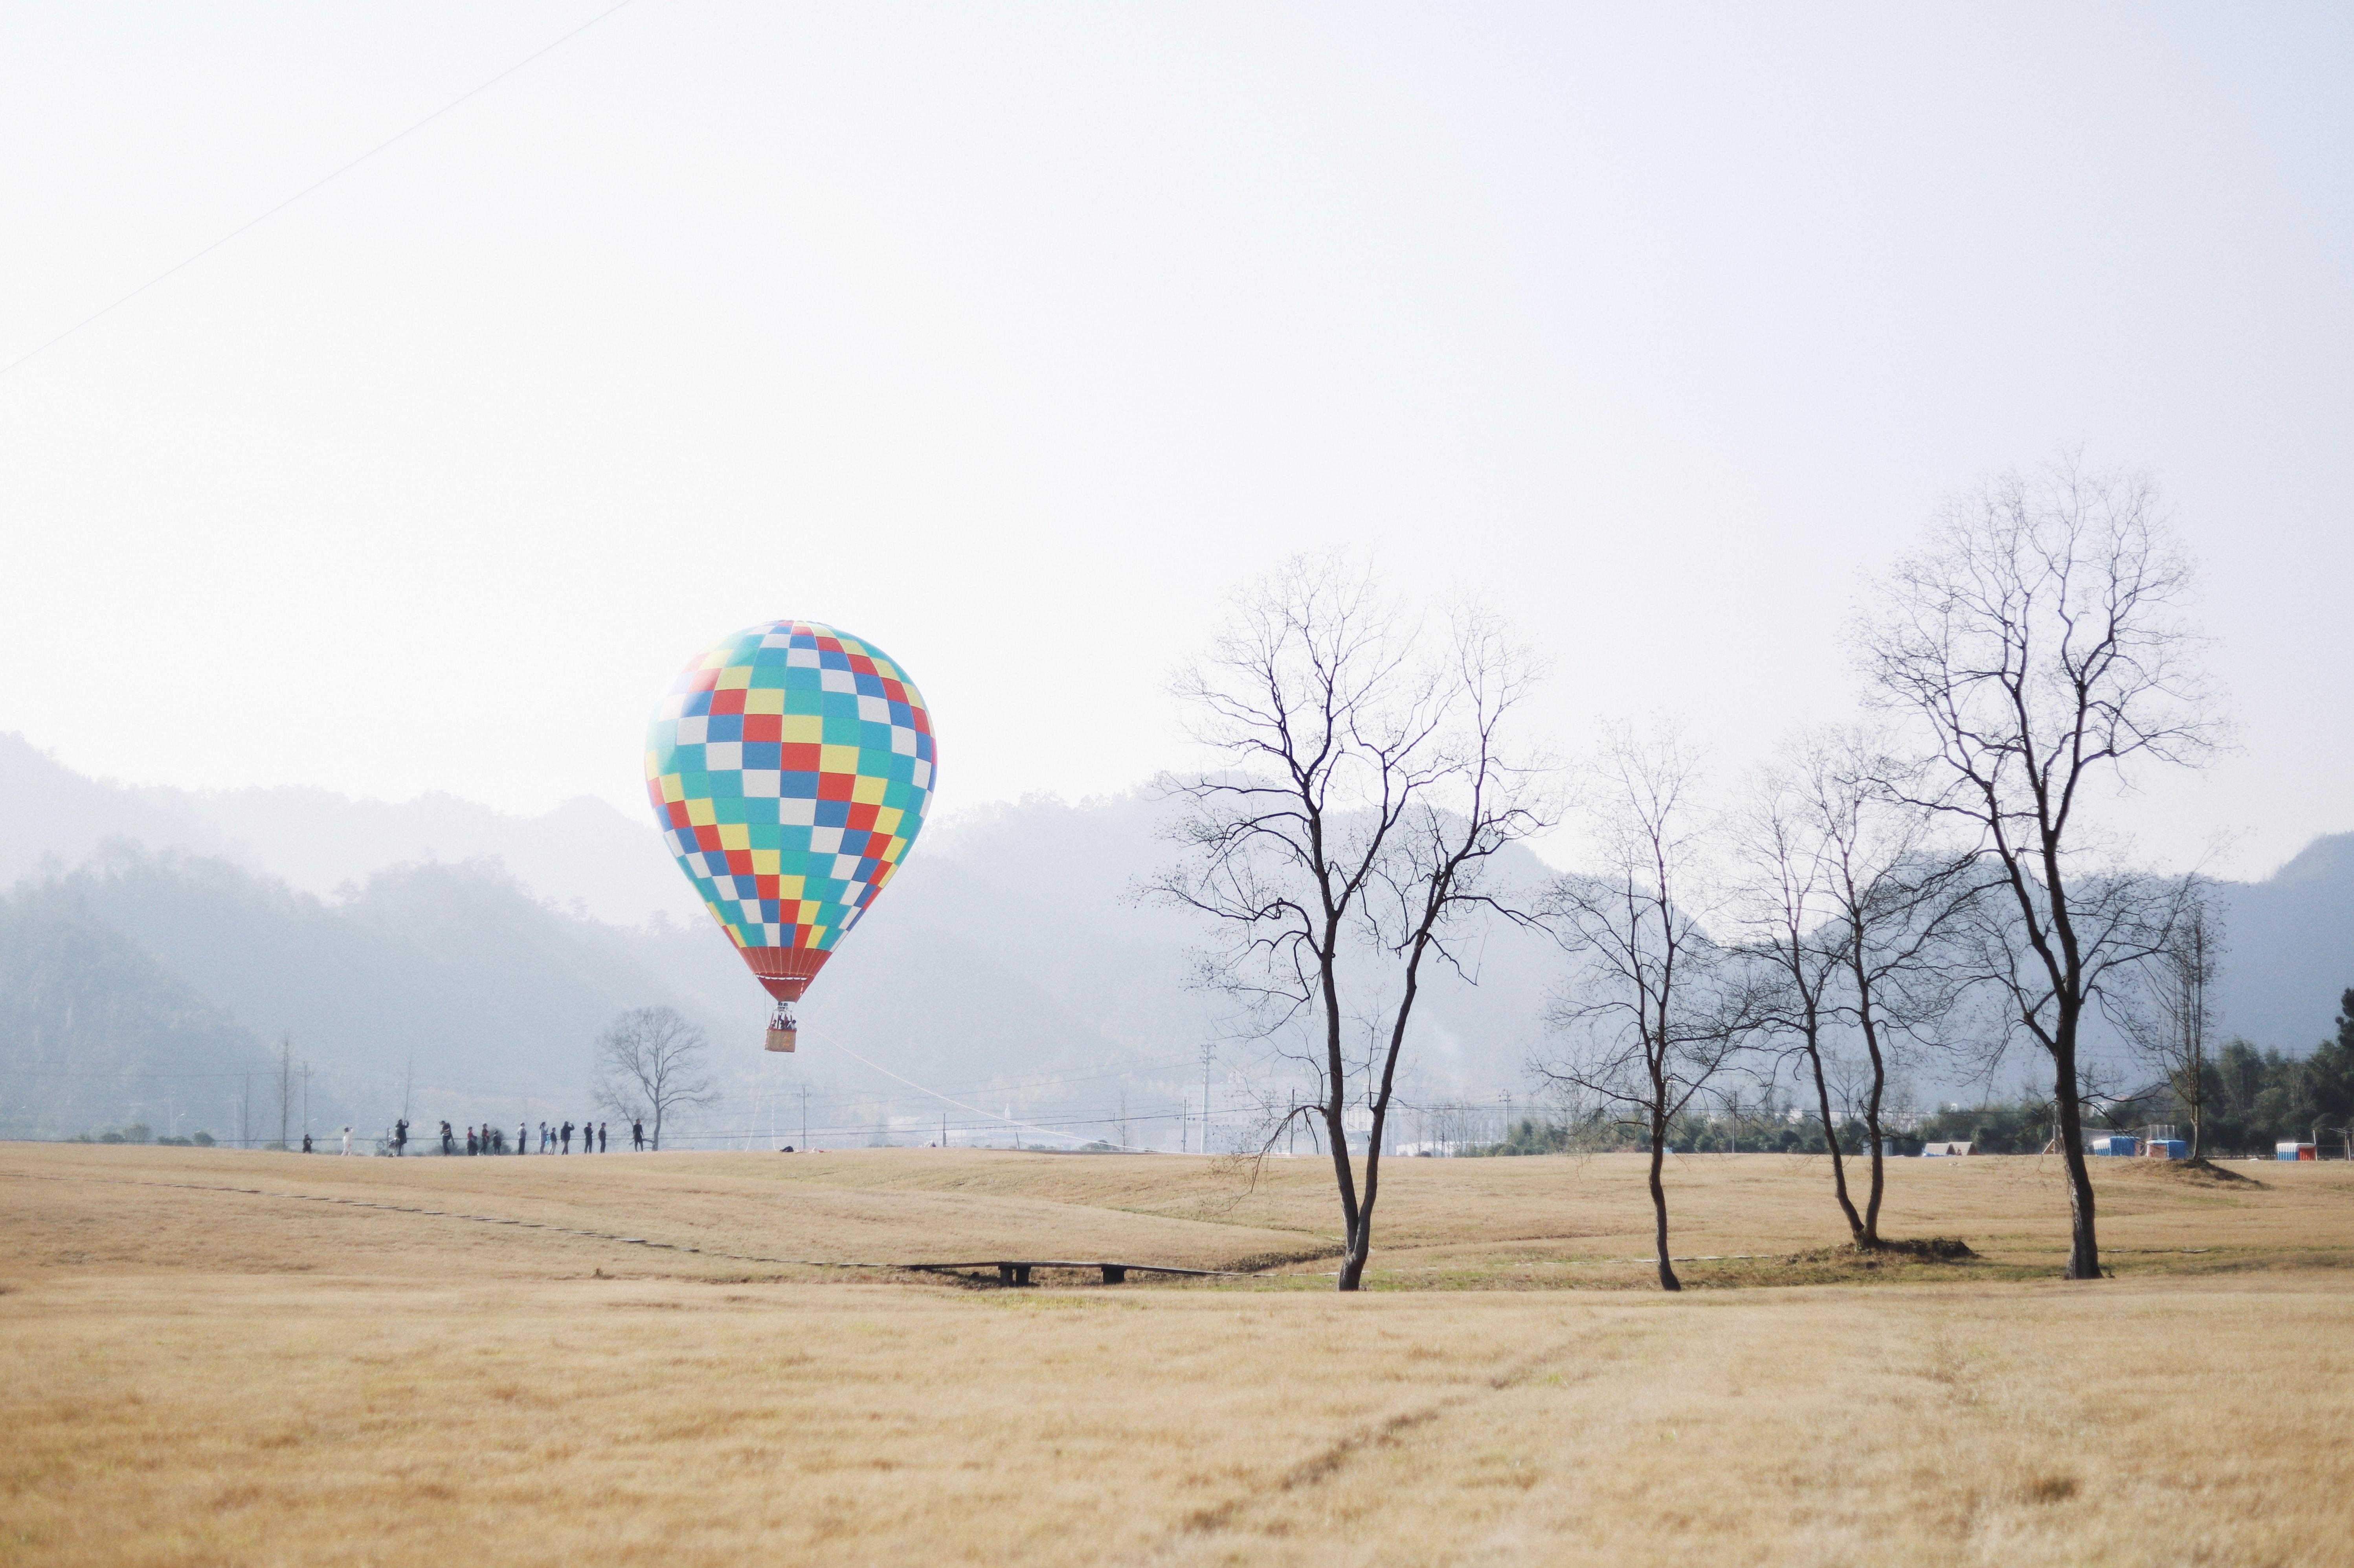hot air ballon: (630, 593, 936, 1055)
